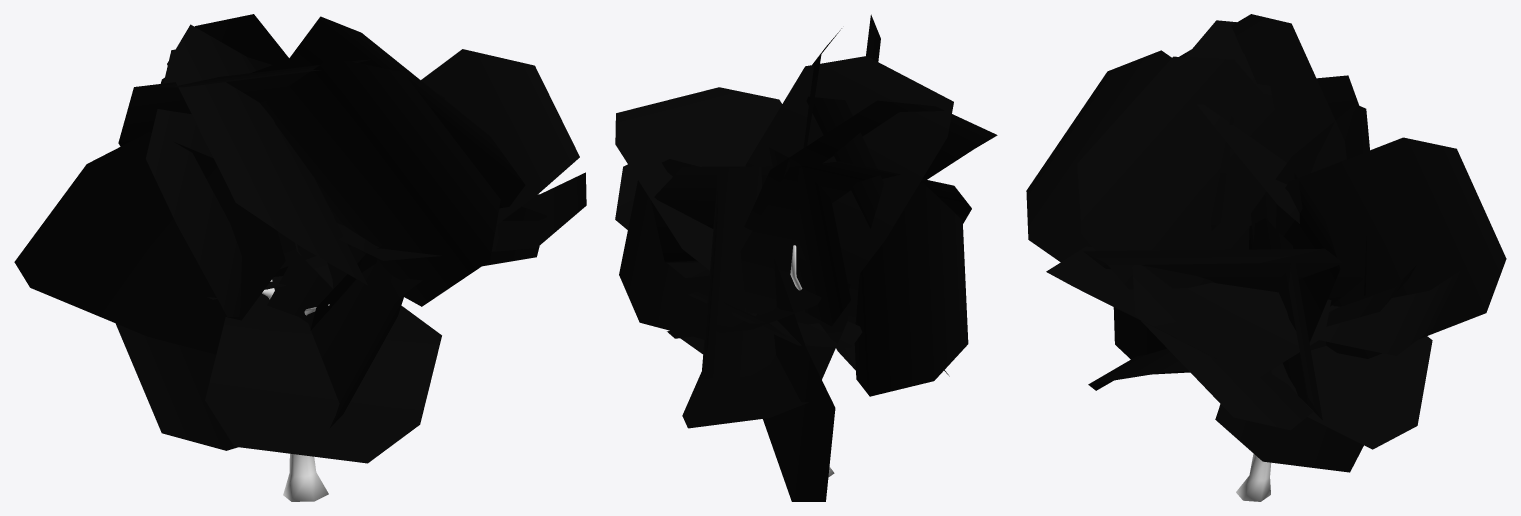
The model's file is Tree_03.fbx.
The picture shows the model from 3 angles, left to right: view 1: azimuth 30°, elevation 25°; view 2: azimuth 150°, elevation 25°; view 3: azimuth 270°, elevation 25°; orthographic projection. The views are drawn at different scales.
Parts seen in each view (by area): view 1: Tree_5; view 2: Tree_5; view 3: Tree_5.
Boxes of the visible parts, <box> form: Tree_5: <box>14,14,586,501</box>; Tree_5: <box>615,14,997,501</box>; Tree_5: <box>1026,14,1506,501</box>.
Size of the model in its own units: 21.35 by 20.52 by 20.19.
2 materials, 1 textured.
